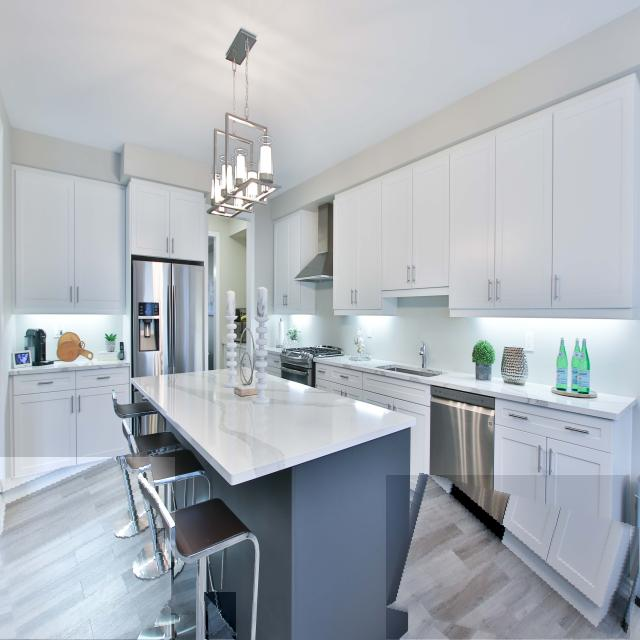floor: (386, 476, 630, 639), (0, 458, 175, 640), (171, 562, 199, 615), (205, 593, 236, 639), (156, 528, 165, 552)
